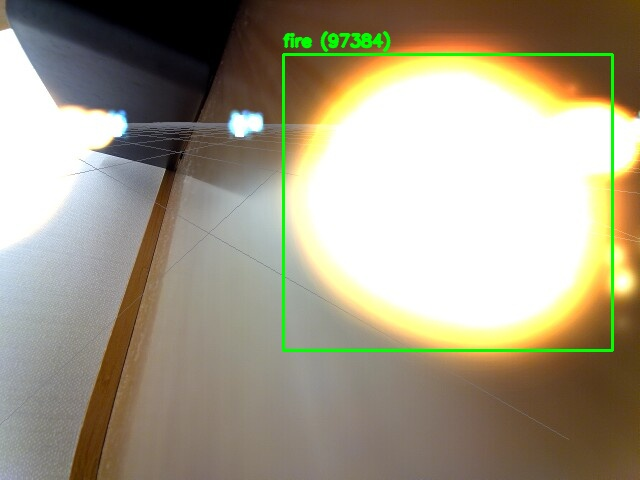fire: (283, 54, 612, 350)
